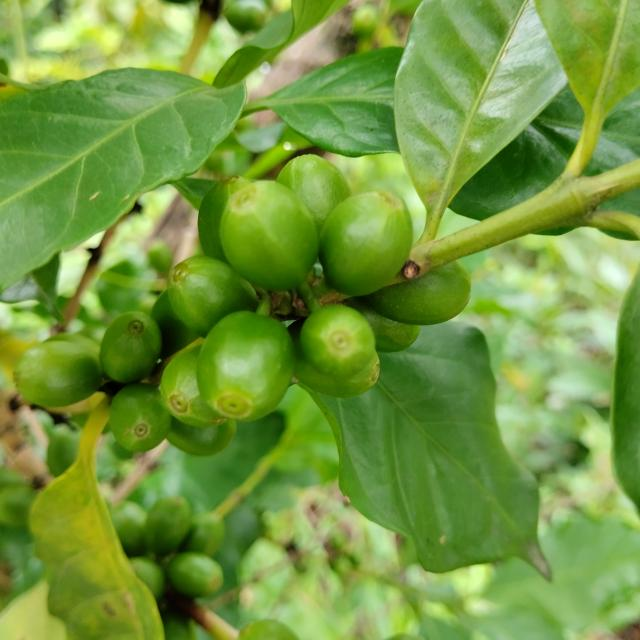green: (219, 180, 319, 291), (197, 311, 295, 421), (319, 190, 413, 296), (167, 256, 258, 337), (289, 321, 380, 398), (13, 334, 103, 408), (368, 261, 472, 325), (276, 154, 351, 232), (300, 305, 375, 378), (160, 345, 225, 428), (197, 175, 251, 262), (99, 311, 161, 384), (108, 383, 171, 453), (346, 298, 420, 353)
